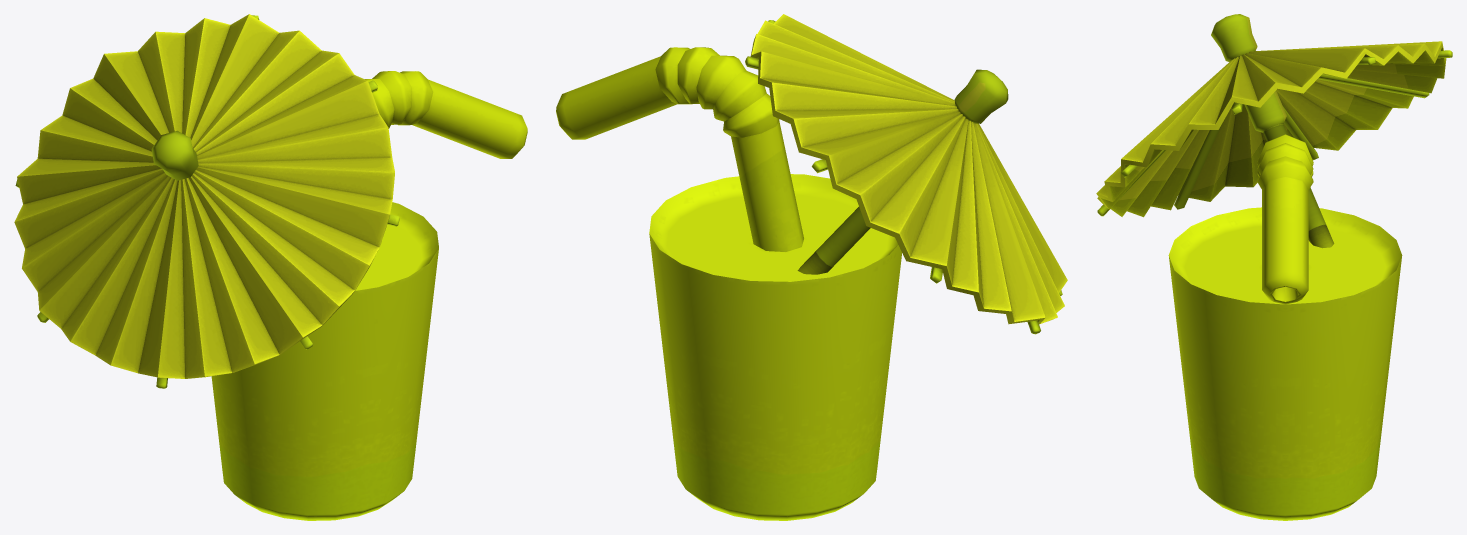
File: Web_Smoothie_Mix_Meadow.obj
The picture shows the model from 3 angles, left to right: view 1: azimuth 30°, elevation 25°; view 2: azimuth 150°, elevation 25°; view 3: azimuth 270°, elevation 25°; orthographic projection. The views are drawn at different scales.
Parts seen in each view (by area): view 1: m_recipe_megaSmoothie_01(Clone)_0; view 2: m_recipe_megaSmoothie_01(Clone)_0; view 3: m_recipe_megaSmoothie_01(Clone)_0.
Boxes of the visible parts, x1,y1,x2,y2 form: m_recipe_megaSmoothie_01(Clone)_0: [14, 14, 527, 520]; m_recipe_megaSmoothie_01(Clone)_0: [556, 14, 1067, 520]; m_recipe_megaSmoothie_01(Clone)_0: [1096, 14, 1452, 520].
Bounding box in the file's own units: 1.11 × 1.01 × 0.7635.
Materials: 1 (1 with a texture image).
